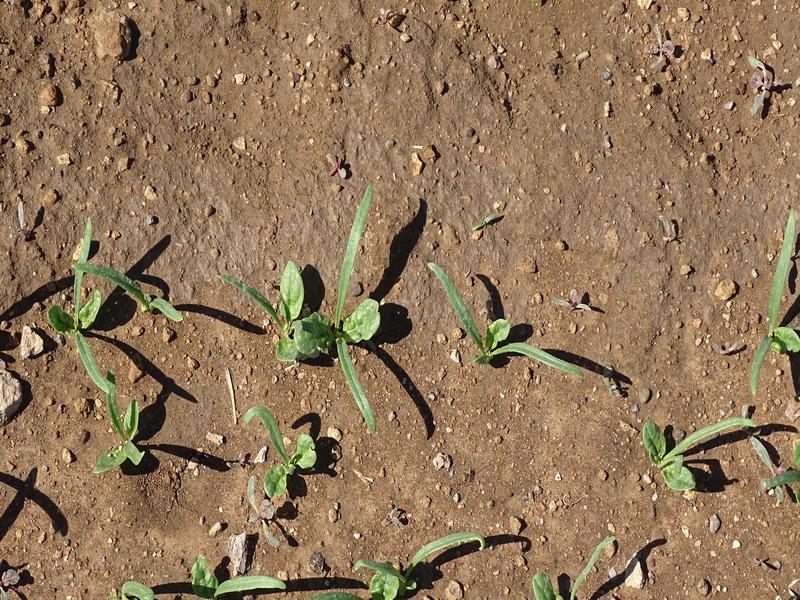Espinaca: (249, 182, 389, 427), (62, 232, 184, 471), (426, 257, 581, 380), (745, 209, 800, 394), (354, 527, 489, 598), (642, 409, 748, 489), (235, 411, 314, 496), (523, 535, 621, 600), (119, 561, 286, 598)
